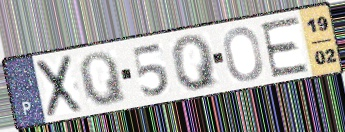5: (129, 40, 171, 99)
E: (258, 14, 311, 80)
O: (221, 25, 265, 83)
Q: (168, 32, 221, 93), (77, 50, 129, 108)
X: (35, 52, 84, 120)
